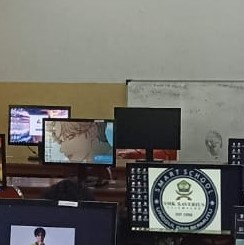monitor: (125, 162, 242, 236), (0, 199, 119, 244), (41, 118, 116, 168), (114, 107, 181, 151), (8, 105, 71, 147), (8, 224, 78, 245)
